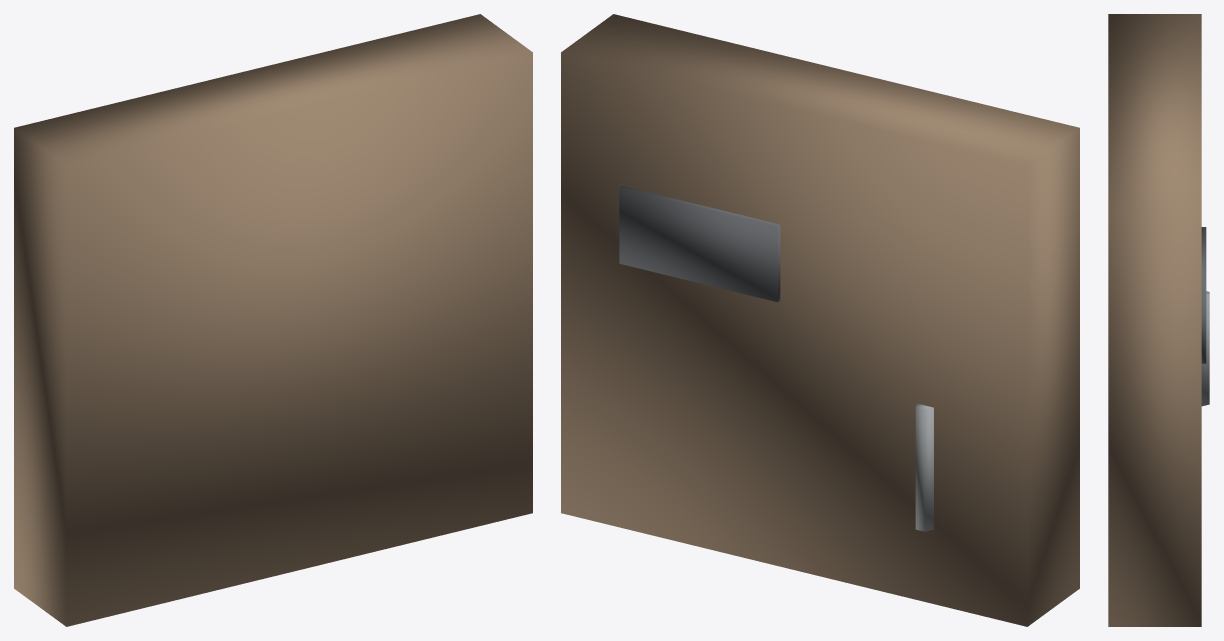
The model's file is back_bar_shelf__service.glb.
3 renders of one model, left to right at view 1: azimuth 30°, elevation 25°; view 2: azimuth 150°, elevation 25°; view 3: azimuth 270°, elevation 25°, orthographic. The views are drawn at different scales.
Visible parts, largest first — view 1: world; view 2: world; view 3: world.
Part boxes in pixels (<box>): world: <box>14,14,532,626</box>; world: <box>561,14,1079,626</box>; world: <box>1108,14,1209,626</box>.
Size of the model in its own units: 1.8 by 1.7 by 0.3803.
